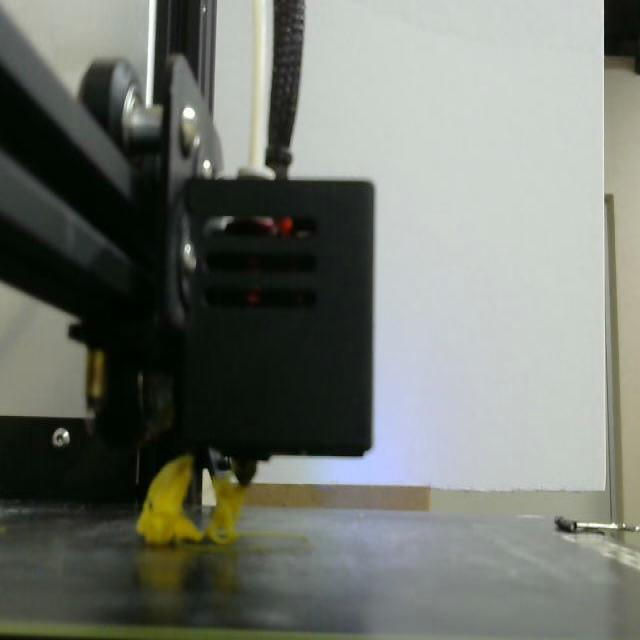spaghetti: (136, 455, 245, 544)
